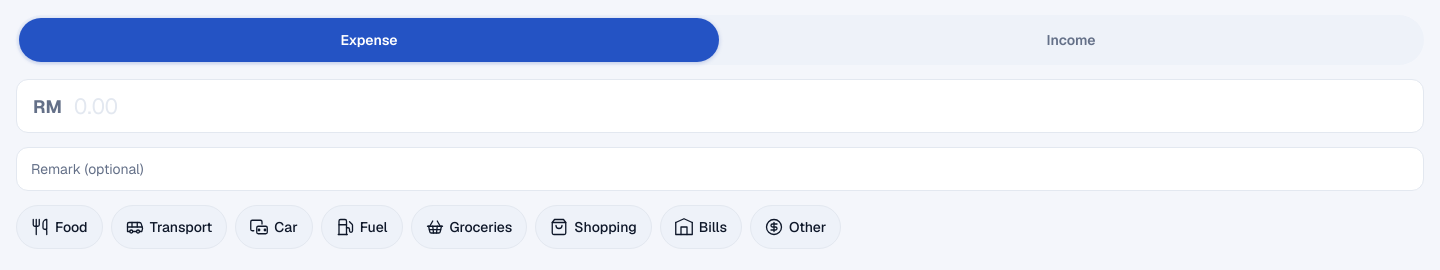
QuickLog › switching back to expense mode restores expense chips
This screenshot has width=1440, height=270.
Step 1. Click the button with test id "mode-income" → (1071, 40), box [721,18,1421,62]
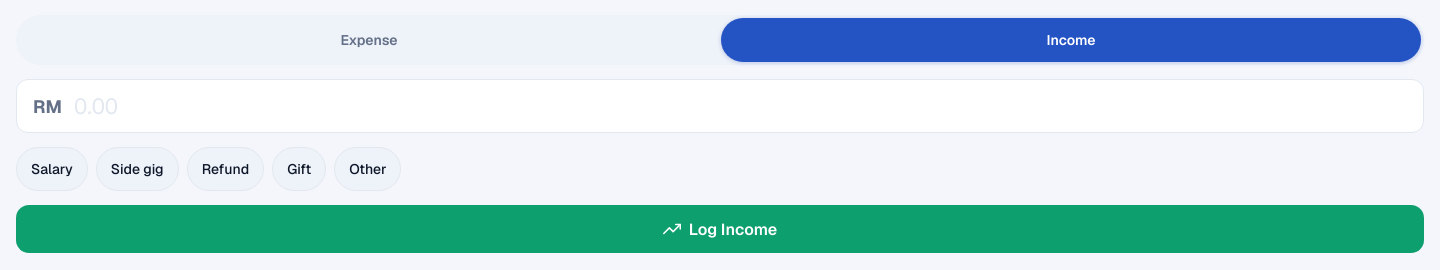
Step 2. Click the button with test id "mode-expense" → (369, 40), box [19,18,719,62]
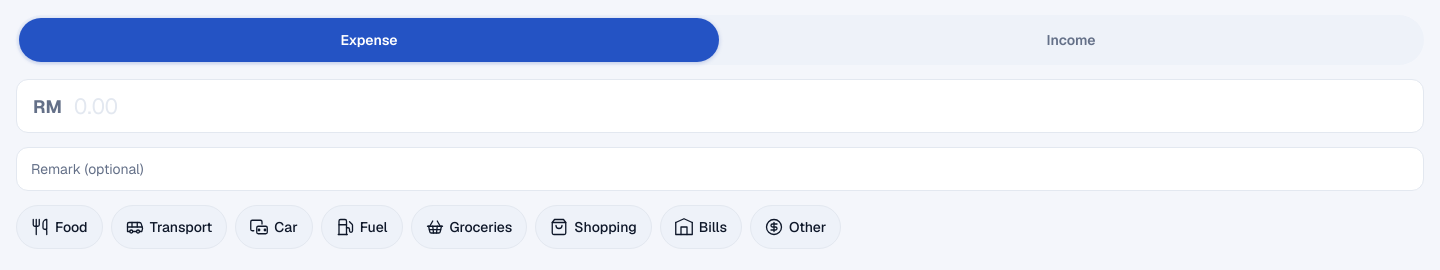
Expected: the button with test id "cat-food" is shown, [16,205,103,249]
